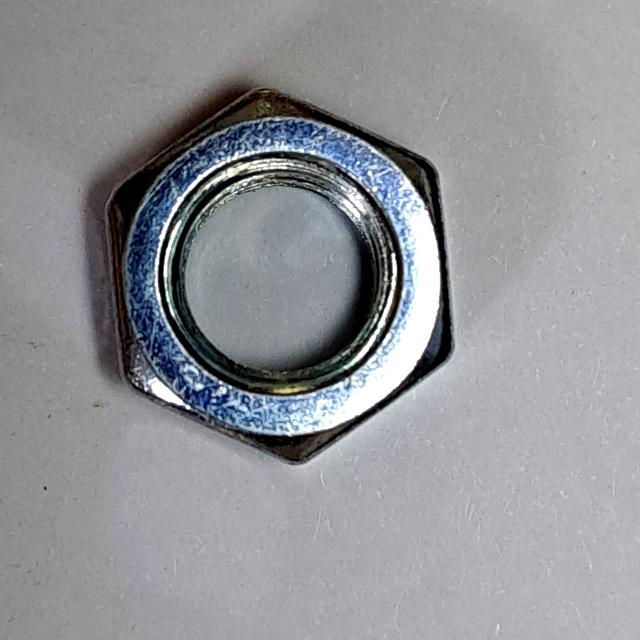Excellent: (100, 68, 468, 473)
